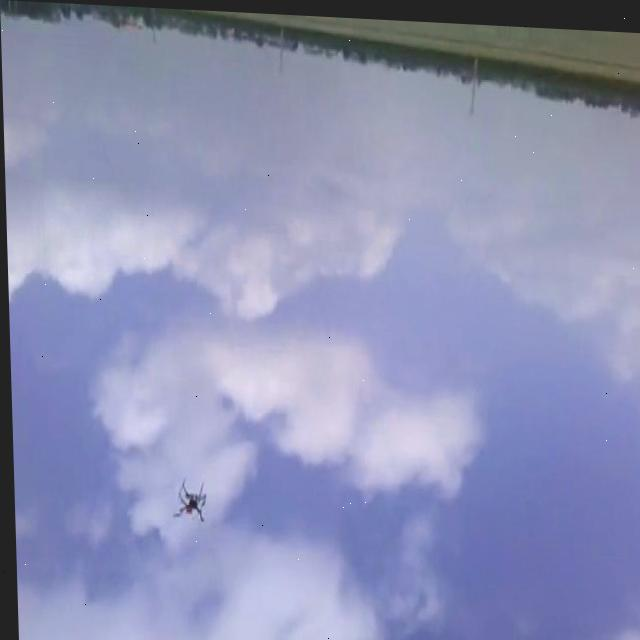drone: (166, 474, 207, 528)
